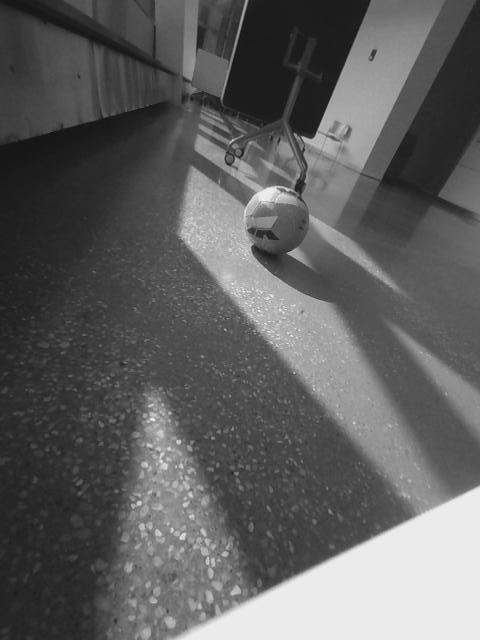ball: (239, 183, 313, 258)
